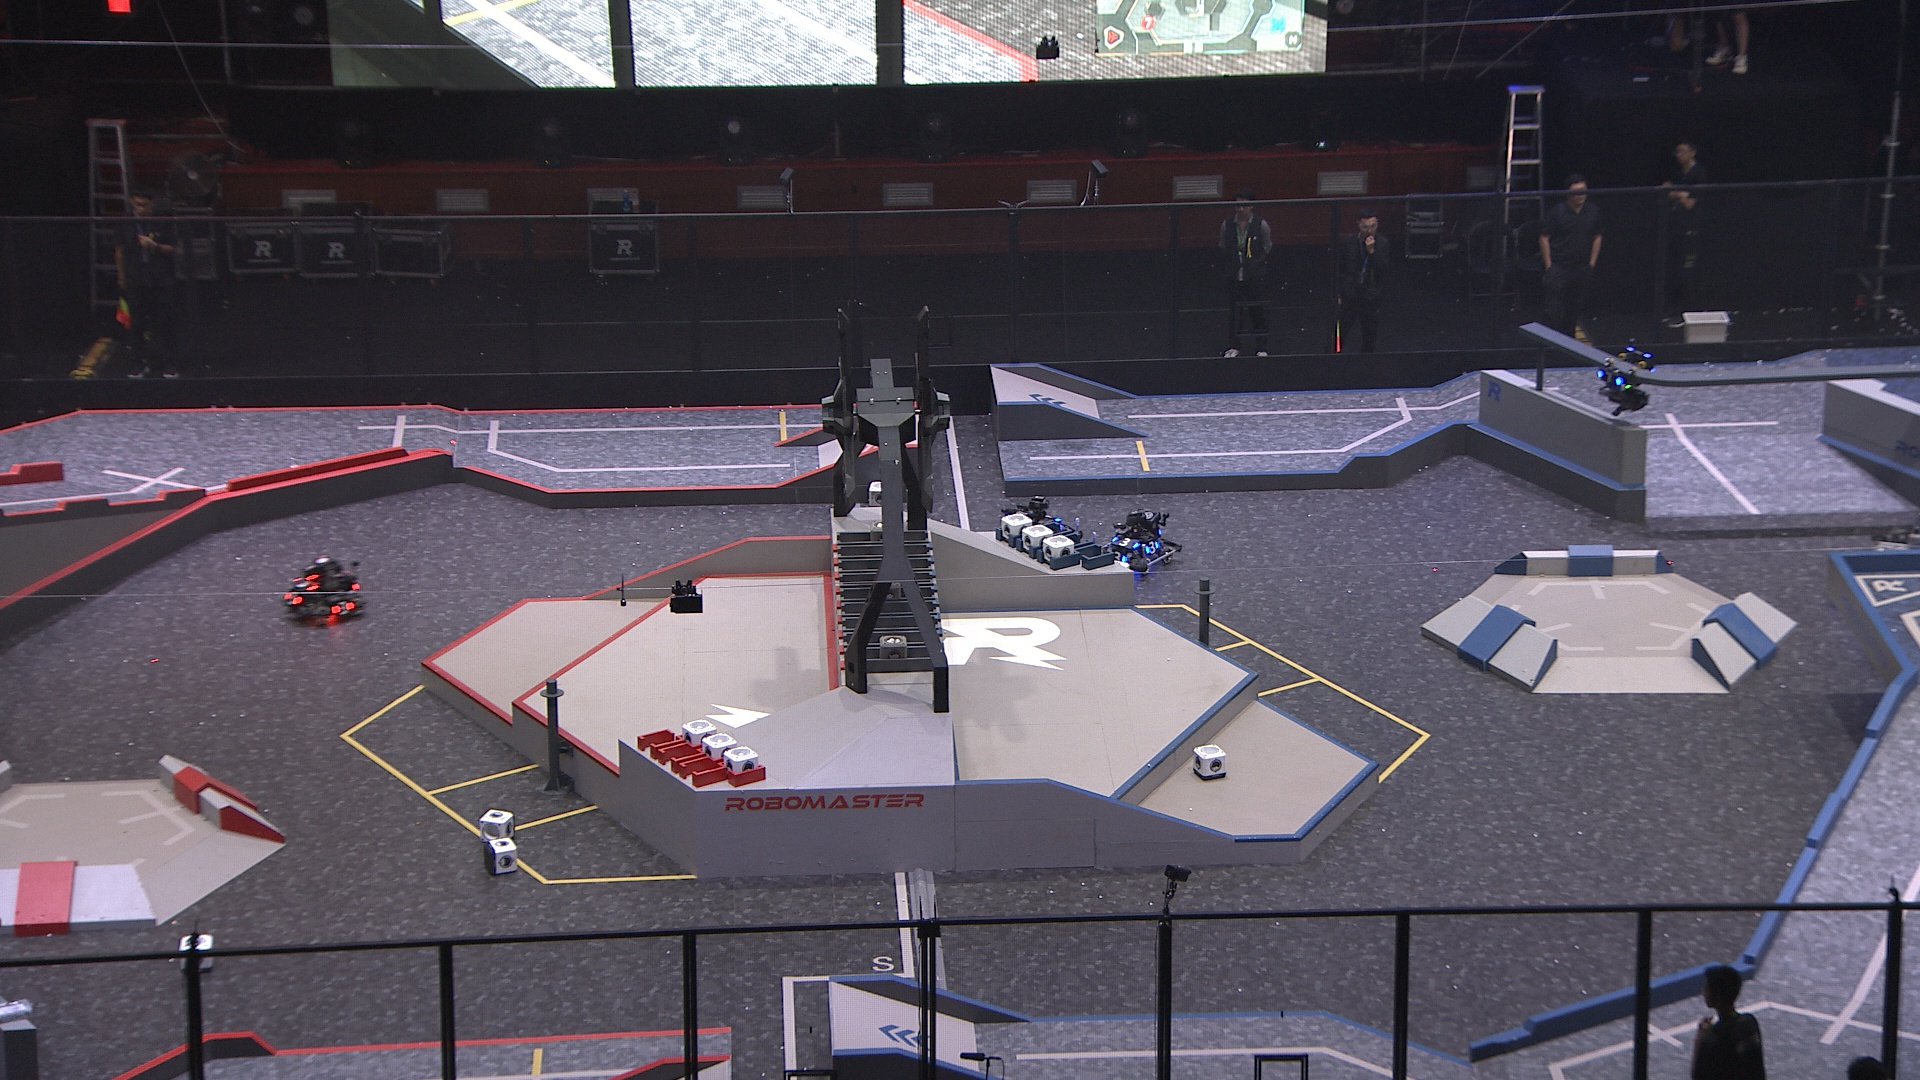armor: (1596, 367, 1623, 390), (327, 599, 356, 618), (1109, 533, 1139, 551), (290, 575, 320, 591), (282, 589, 306, 605), (1145, 537, 1160, 553), (1112, 549, 1126, 564)
car: (1096, 506, 1185, 579), (277, 555, 365, 626), (993, 495, 1083, 560)
watcher: (1593, 334, 1660, 418)
